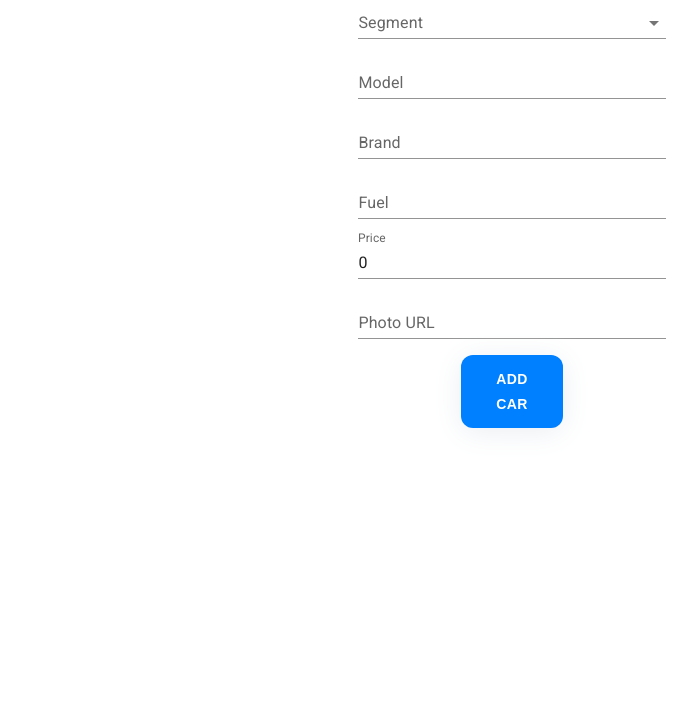
AddCars tests › shouldnt allow to submit an empty form
Click the button "Add Car" at [512, 392], box [461,355,563,428]
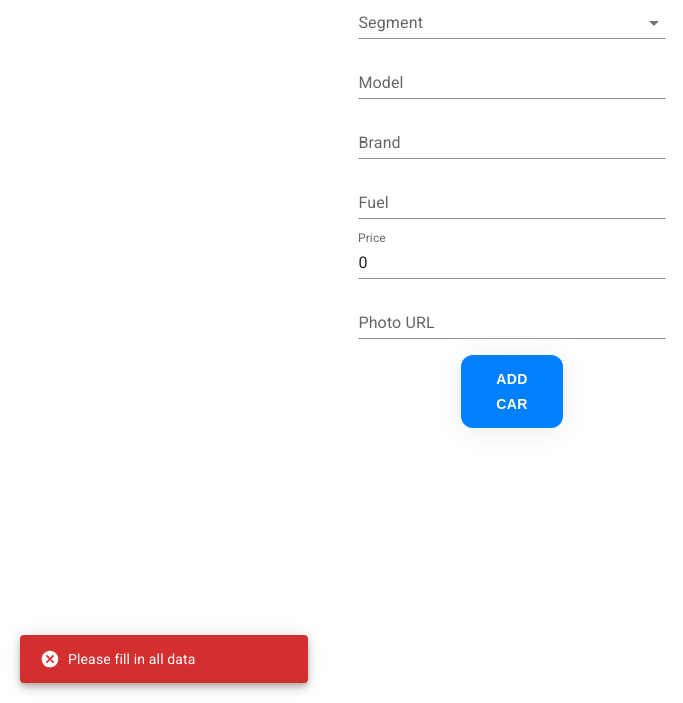
Expected: the text "Please fill in all data" is shown, [40,649,196,669]
